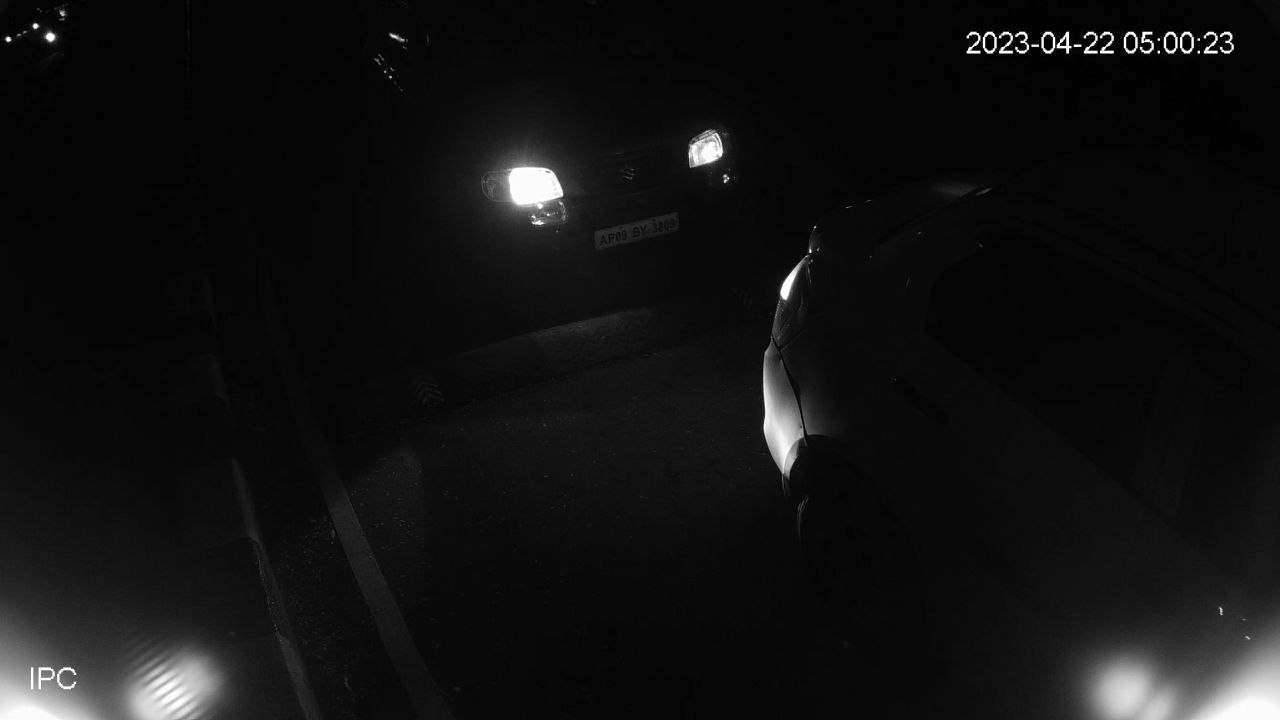license_plate: (591, 206, 682, 258)
